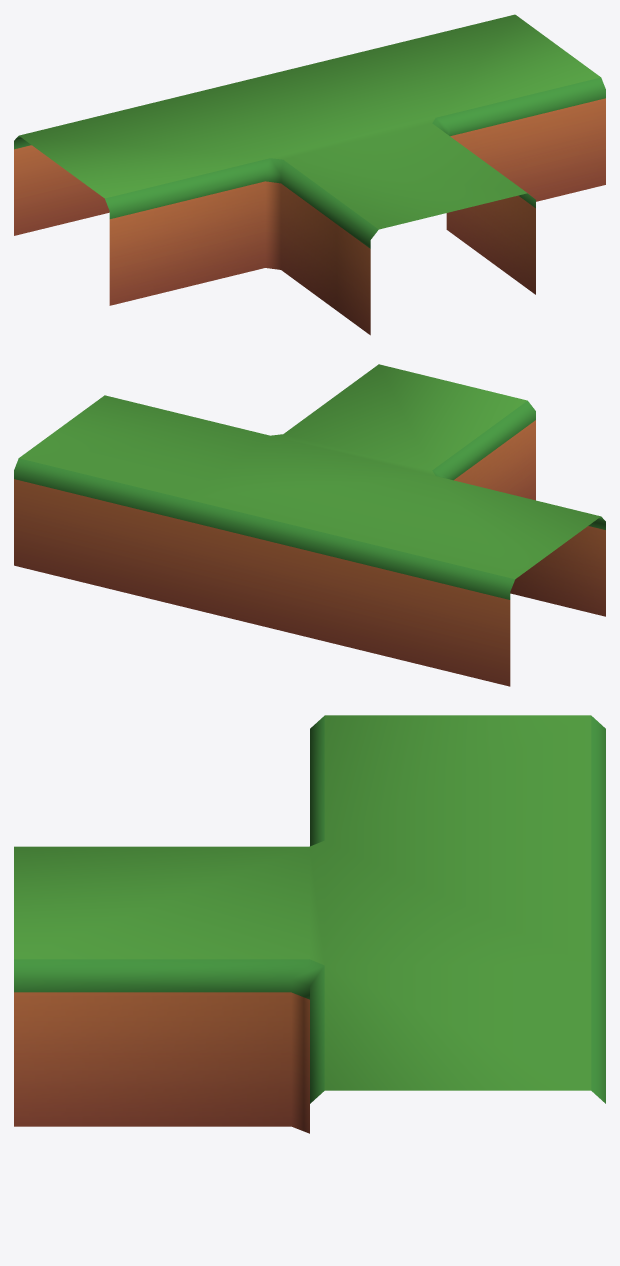
Rendered from T Junction 01.FBX.
The picture shows the model from 3 angles, top to bottom: view 1: azimuth 30°, elevation 25°; view 2: azimuth 150°, elevation 25°; view 3: azimuth 270°, elevation 25°; orthographic projection. The views are drawn at different scales.
Visible parts, largest first — view 1: T Junction 01; view 2: T Junction 01; view 3: T Junction 01.
Part boxes in pixels (x1=…): T Junction 01: x1=14, y1=14, x2=605, y2=335; T Junction 01: x1=14, y1=364, x2=605, y2=686; T Junction 01: x1=14, y1=715, x2=605, y2=1133.
Size of the model in its own units: 1500 by 300 by 1000.
Materials: 1 (1 with a texture image).
